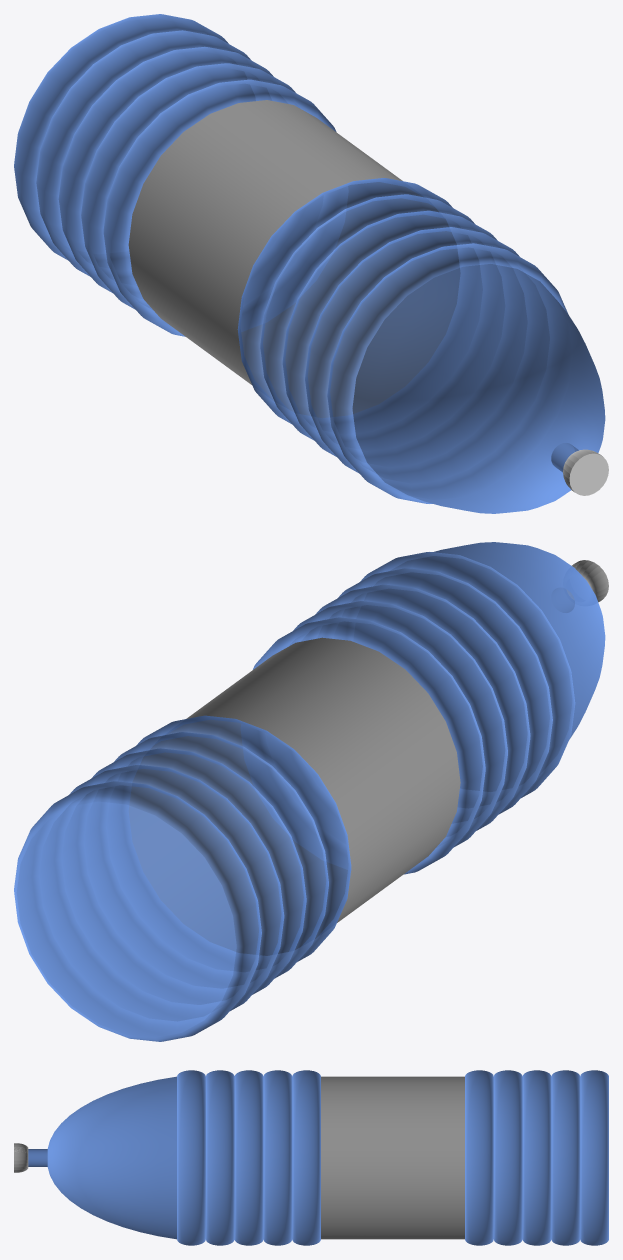
File: model_align.obj
3 views of the same model, one above another, from view 1: azimuth 30°, elevation 25°; view 2: azimuth 150°, elevation 25°; view 3: azimuth 270°, elevation 25° (orthographic). The views are drawn at different scales.
Parts seen in each view (by area): view 1: mesh1_mesh1-geometry; view 2: mesh1_mesh1-geometry; view 3: mesh1_mesh1-geometry.
Part boxes in pixels (x1=…): mesh1_mesh1-geometry: x1=14, y1=14, x2=608, y2=513; mesh1_mesh1-geometry: x1=14, y1=542, x2=608, y2=1041; mesh1_mesh1-geometry: x1=14, y1=1070, x2=608, y2=1245.
Bounding box in the file's own units: 0.0839 × 0.0839 × 0.2835.
